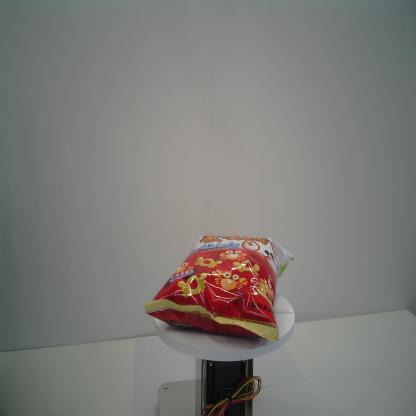Puffed Food: (145, 234, 293, 343)
